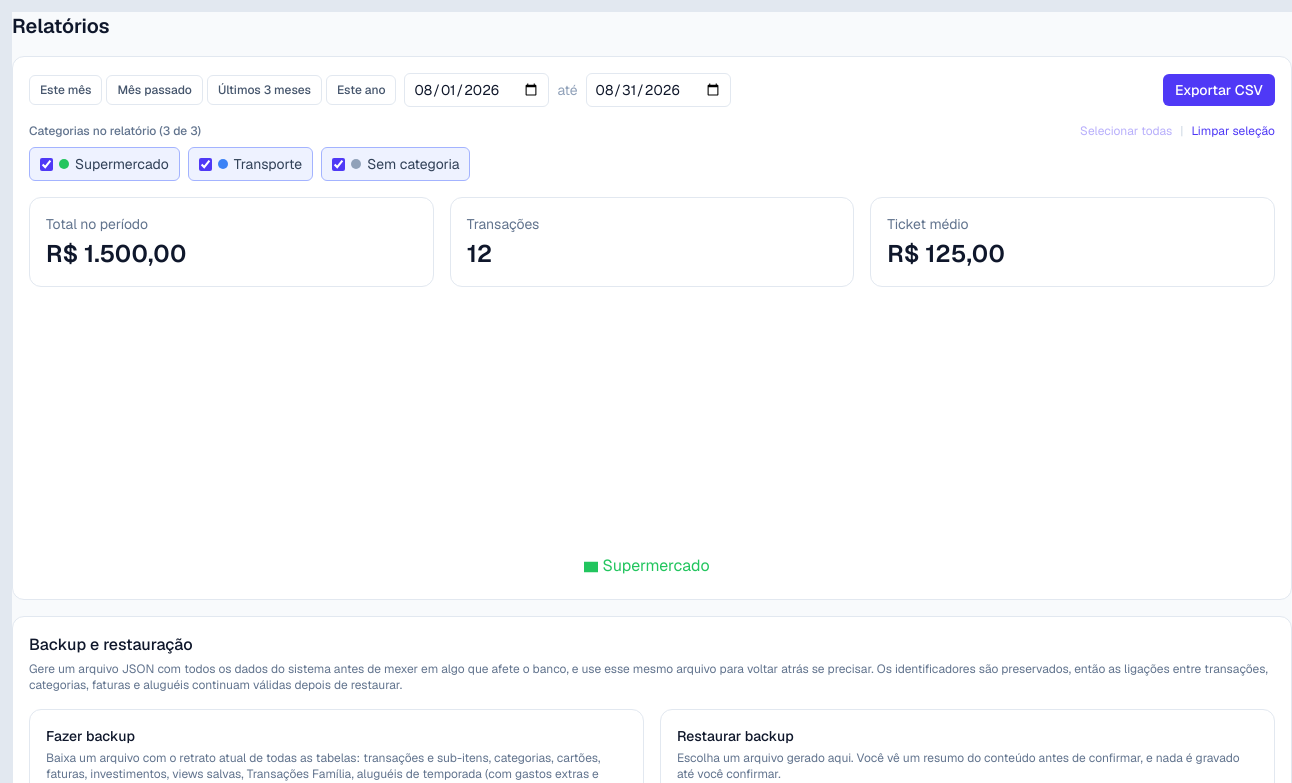
it: página /relatorios — filtros › remarcar volta a incluir a categoria
Click the checkbox labelled "Supermercado": (46, 164) [40, 158, 53, 170]
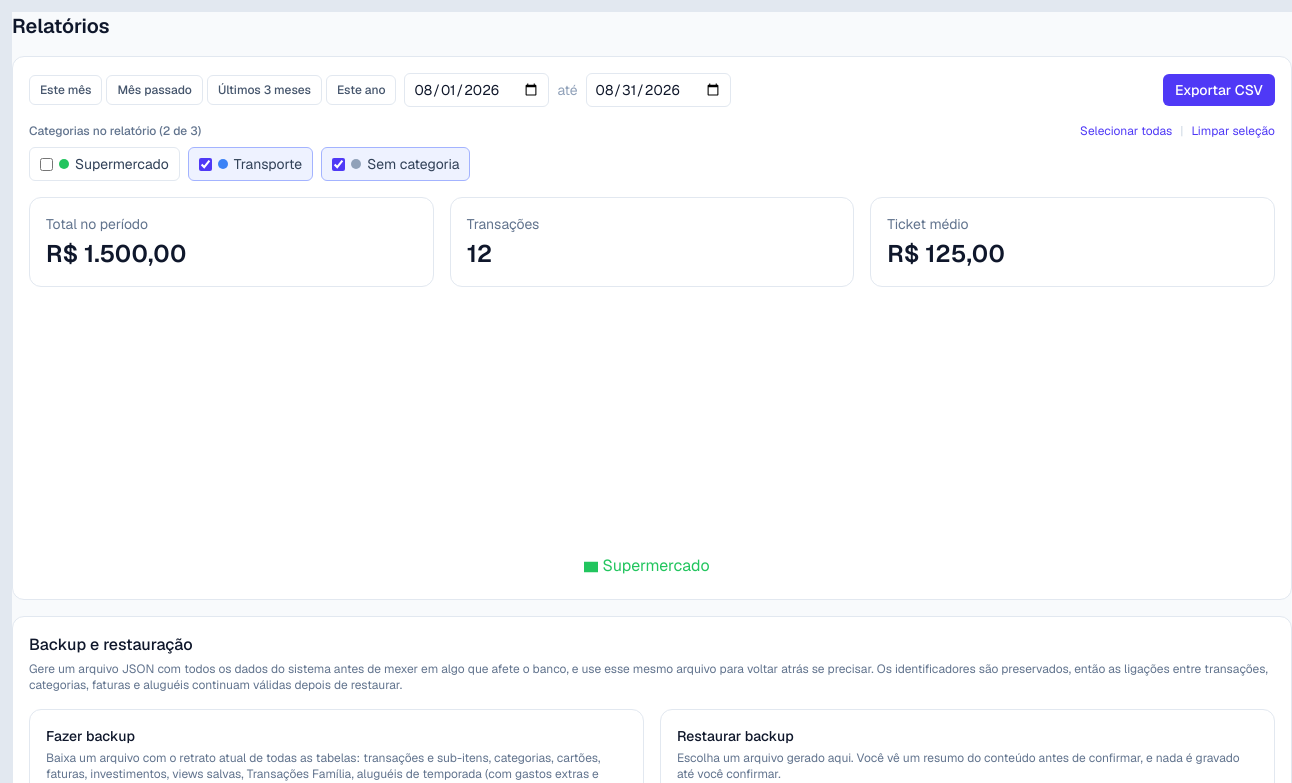
Expected: the text "Categorias no relatório (2 de 3)" is shown, [29, 123, 201, 139]
Click the checkbox labelled "Supermercado": (46, 164) [40, 158, 53, 170]
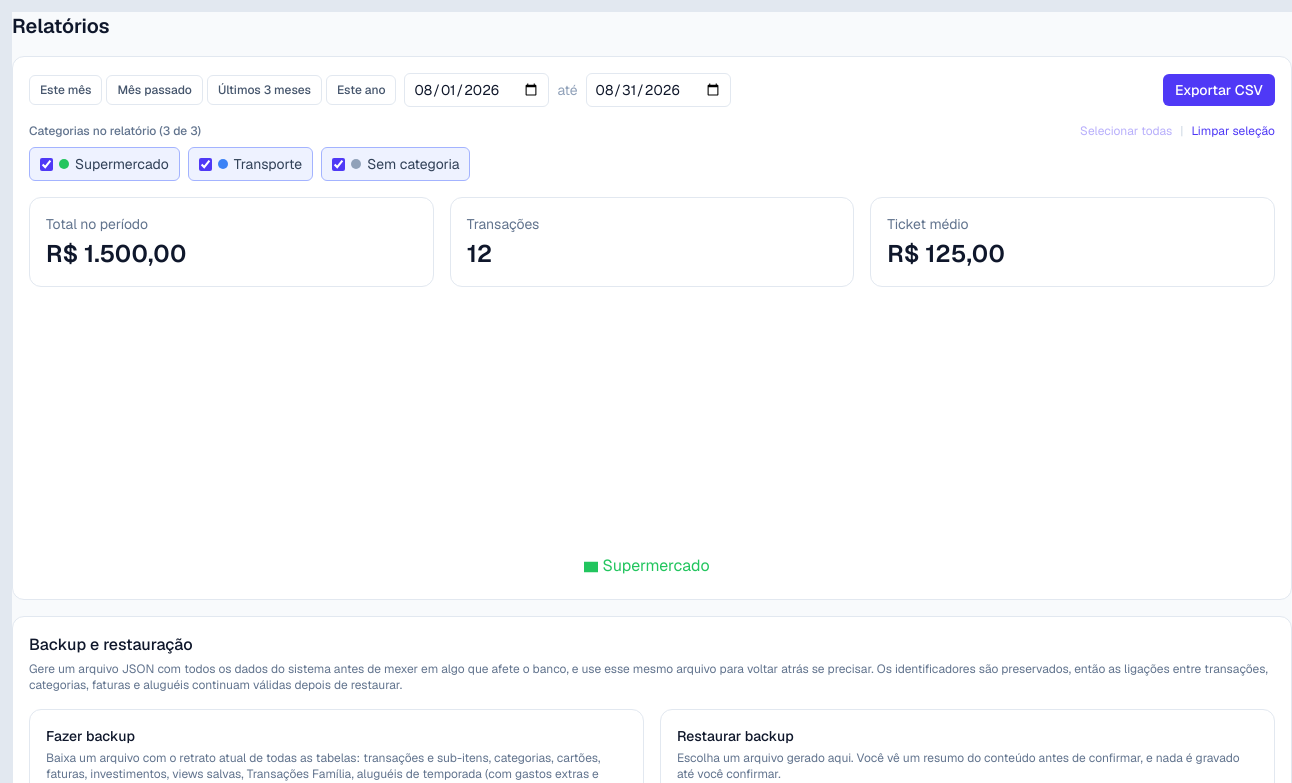
Expected: the text "Categorias no relatório (3 de 3)" is shown, [29, 123, 201, 139]
